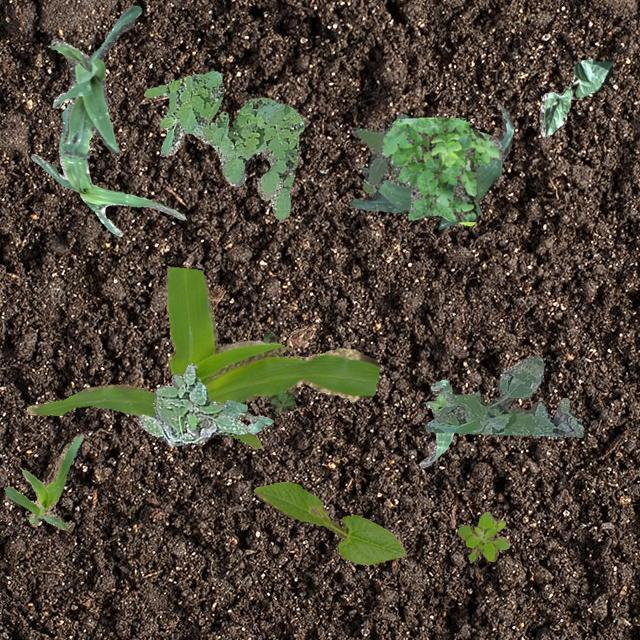crop: (26, 266, 378, 448), (29, 102, 184, 235), (348, 104, 512, 228), (46, 5, 140, 158), (252, 481, 404, 564), (3, 432, 82, 528), (538, 57, 612, 136), (418, 378, 452, 466), (218, 398, 272, 432)
weed: (144, 70, 304, 220), (381, 116, 502, 225), (424, 354, 582, 436), (136, 362, 246, 444), (352, 112, 406, 192), (262, 329, 294, 412), (456, 510, 509, 560)
